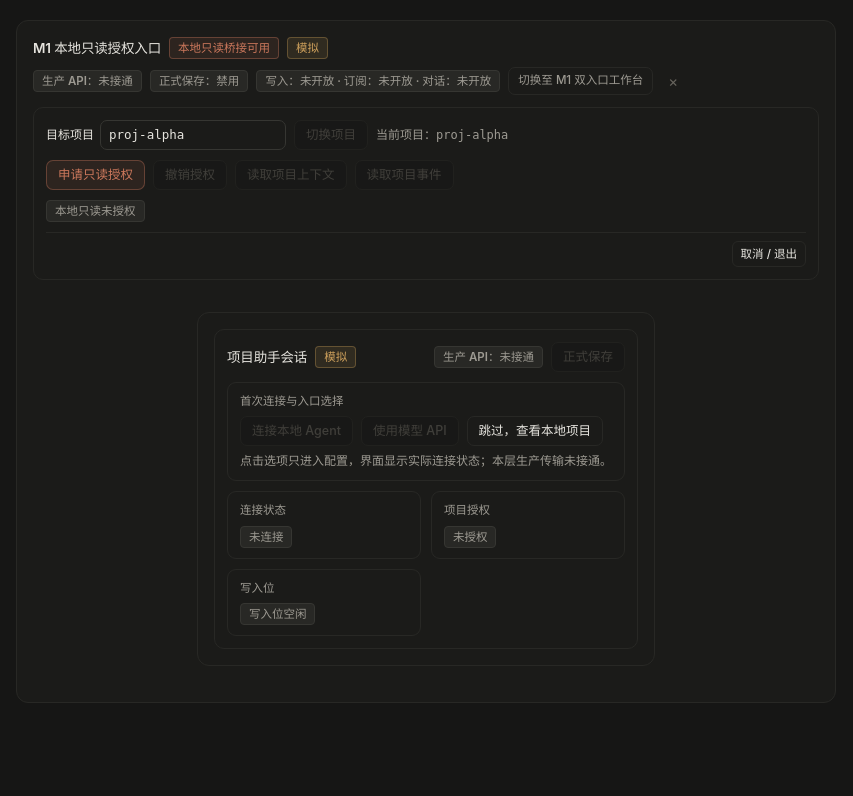
Test: ProjectAgentM1ReadonlyEntry (模拟 / synthetic: true) › 授权请求仅发送 2002 白名单字段，授权后通过 peel adapter 读取上下文与事件并渲染 Session
Click the button "申请只读授权" at [96, 175], box [46, 160, 145, 190]
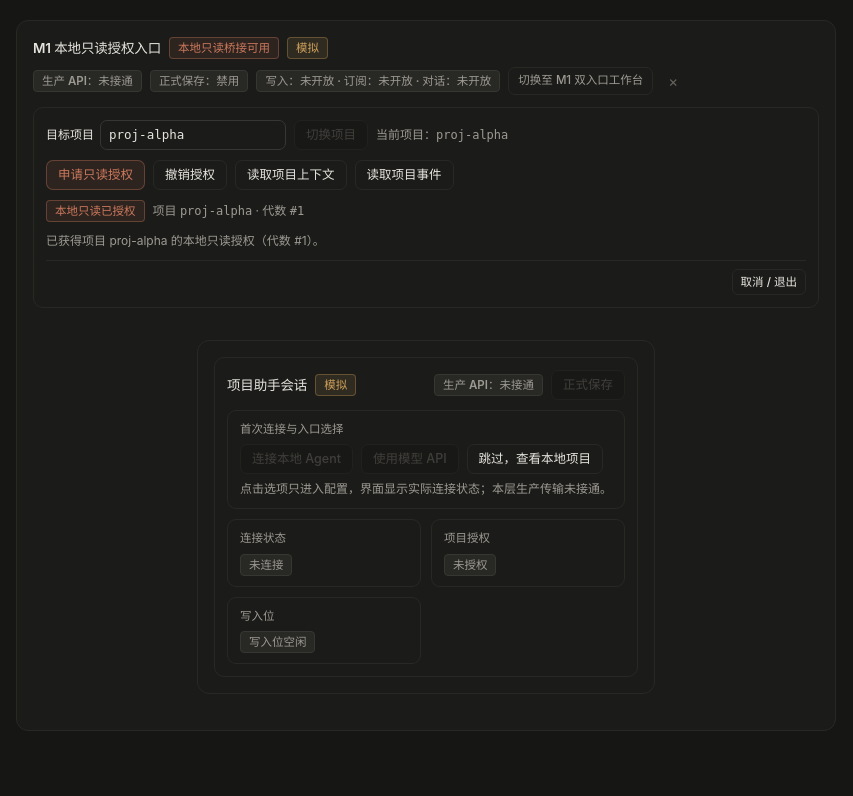
Expected: the text "proj-alpha" next to "当前项目：" is shown, [436, 128, 508, 142]
Now the text "本地只读已授权" is shown, box [46, 200, 144, 222]
Click the button "读取项目上下文" at [291, 175], box [235, 160, 346, 190]
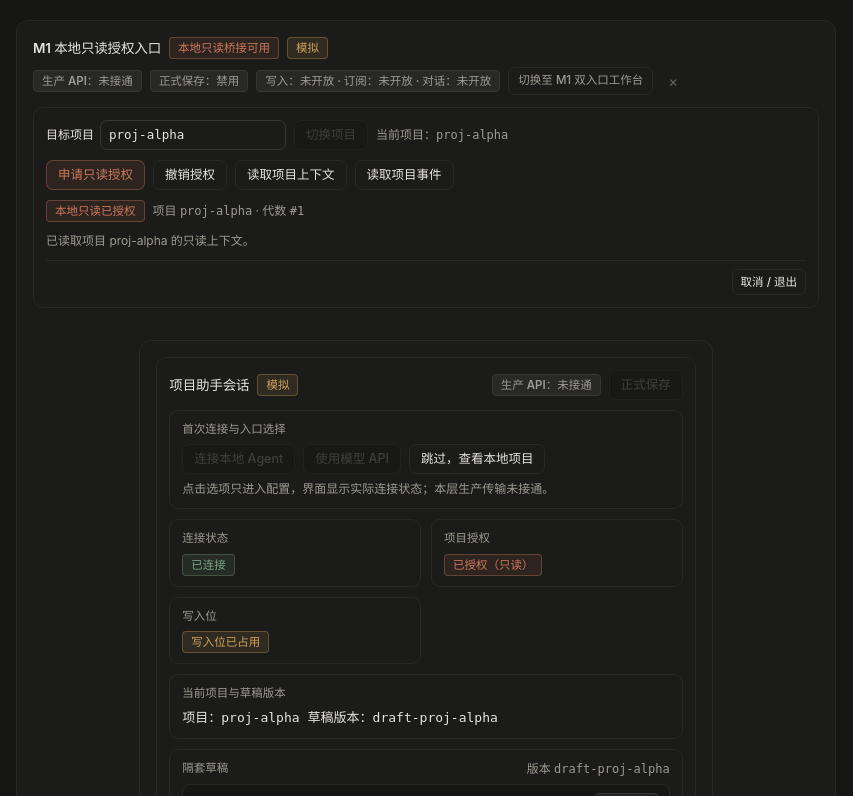
Now the text "draft-proj-alpha" next to "草稿版本：" is shown, box [373, 710, 498, 725]
Now the element named "授权：已授权（只读）" is shown, box [431, 519, 683, 587]
Click the button "读取项目事件" at [404, 175], box [354, 160, 454, 190]
(page scrolled)
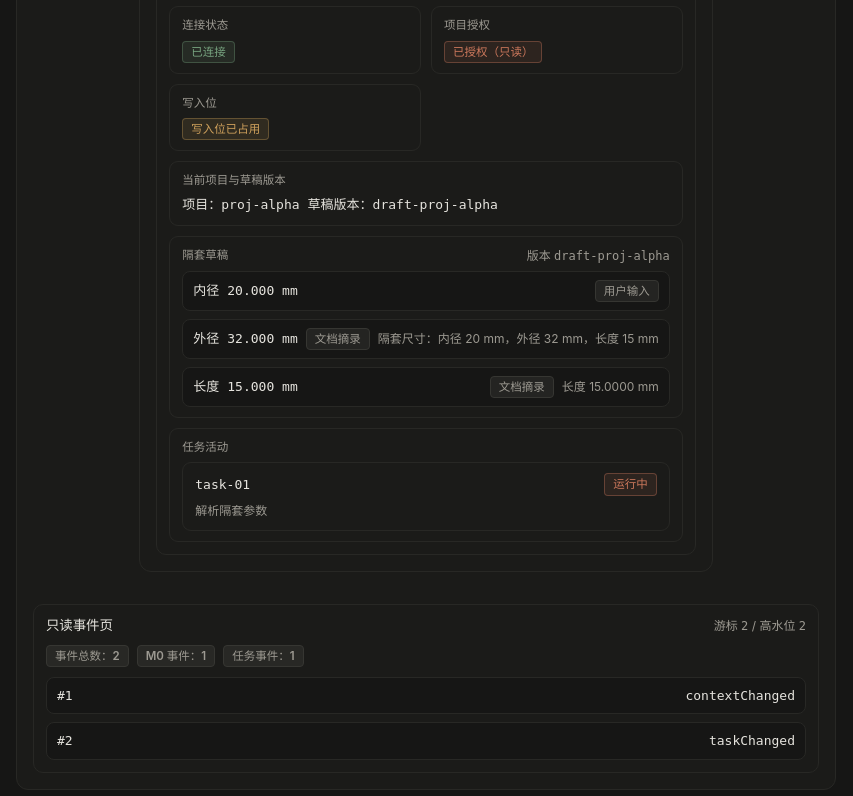
Now the element "只读事件页" is shown, box [33, 604, 819, 773]
Now the text "事件总数：2" is shown, box [46, 644, 129, 667]
Now the text "M0 事件：1" is shown, box [137, 644, 215, 667]
